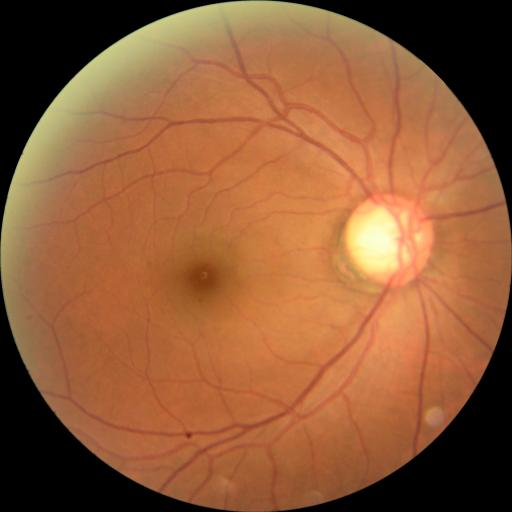Optic Cup: (353, 208, 421, 273)
Optic Disc: (343, 192, 435, 288)
